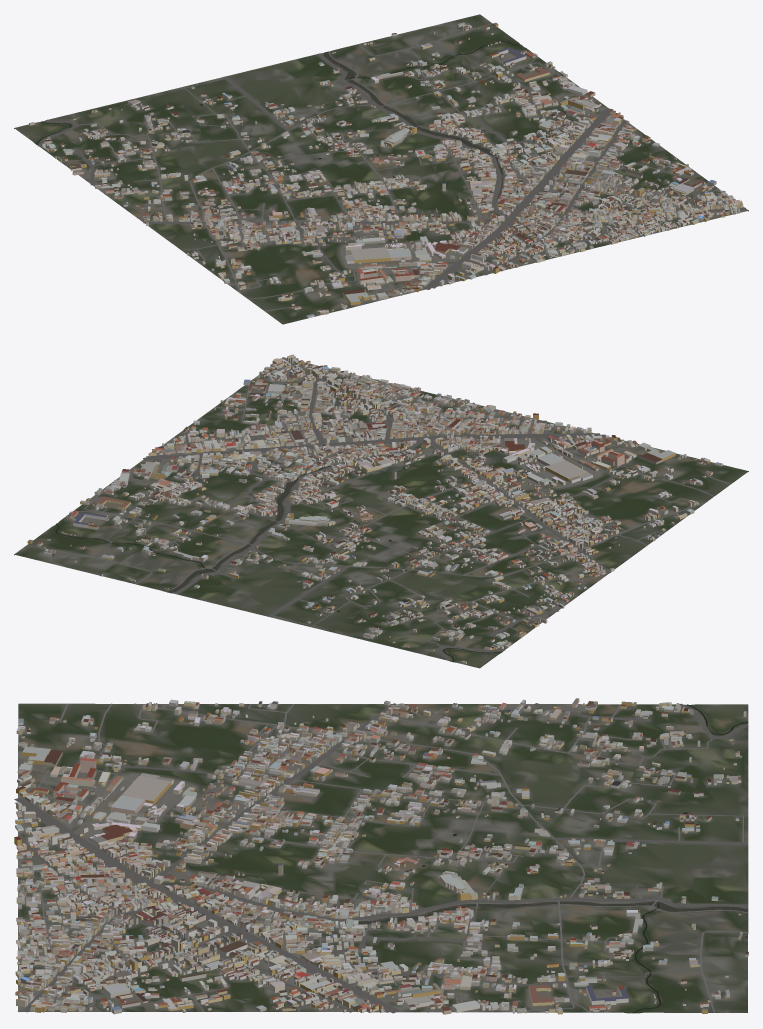
3 views of the same model, one above another, from view 1: azimuth 30°, elevation 25°; view 2: azimuth 150°, elevation 25°; view 3: azimuth 270°, elevation 25° (orthographic). The views are drawn at different scales.
Parts seen in each view (by area): view 1: ground, buildings, roads, water; view 2: ground, buildings, roads, water; view 3: ground, buildings, roads, water.
Boxes of the visible parts, bbox=[...] form: ground: bbox=[14, 14, 748, 324]; buildings: bbox=[29, 22, 743, 317]; roads: bbox=[38, 23, 748, 311]; water: bbox=[36, 41, 522, 199]; ground: bbox=[14, 357, 748, 668]; buildings: bbox=[27, 354, 723, 664]; roads: bbox=[26, 357, 730, 660]; water: bbox=[55, 465, 501, 661]; ground: bbox=[18, 703, 748, 1013]; buildings: bbox=[14, 698, 748, 1014]; roads: bbox=[14, 703, 748, 1013]; water: bbox=[224, 704, 748, 1013].
Bounding box in the file's own units: 1422 × 31.68 × 1410.
